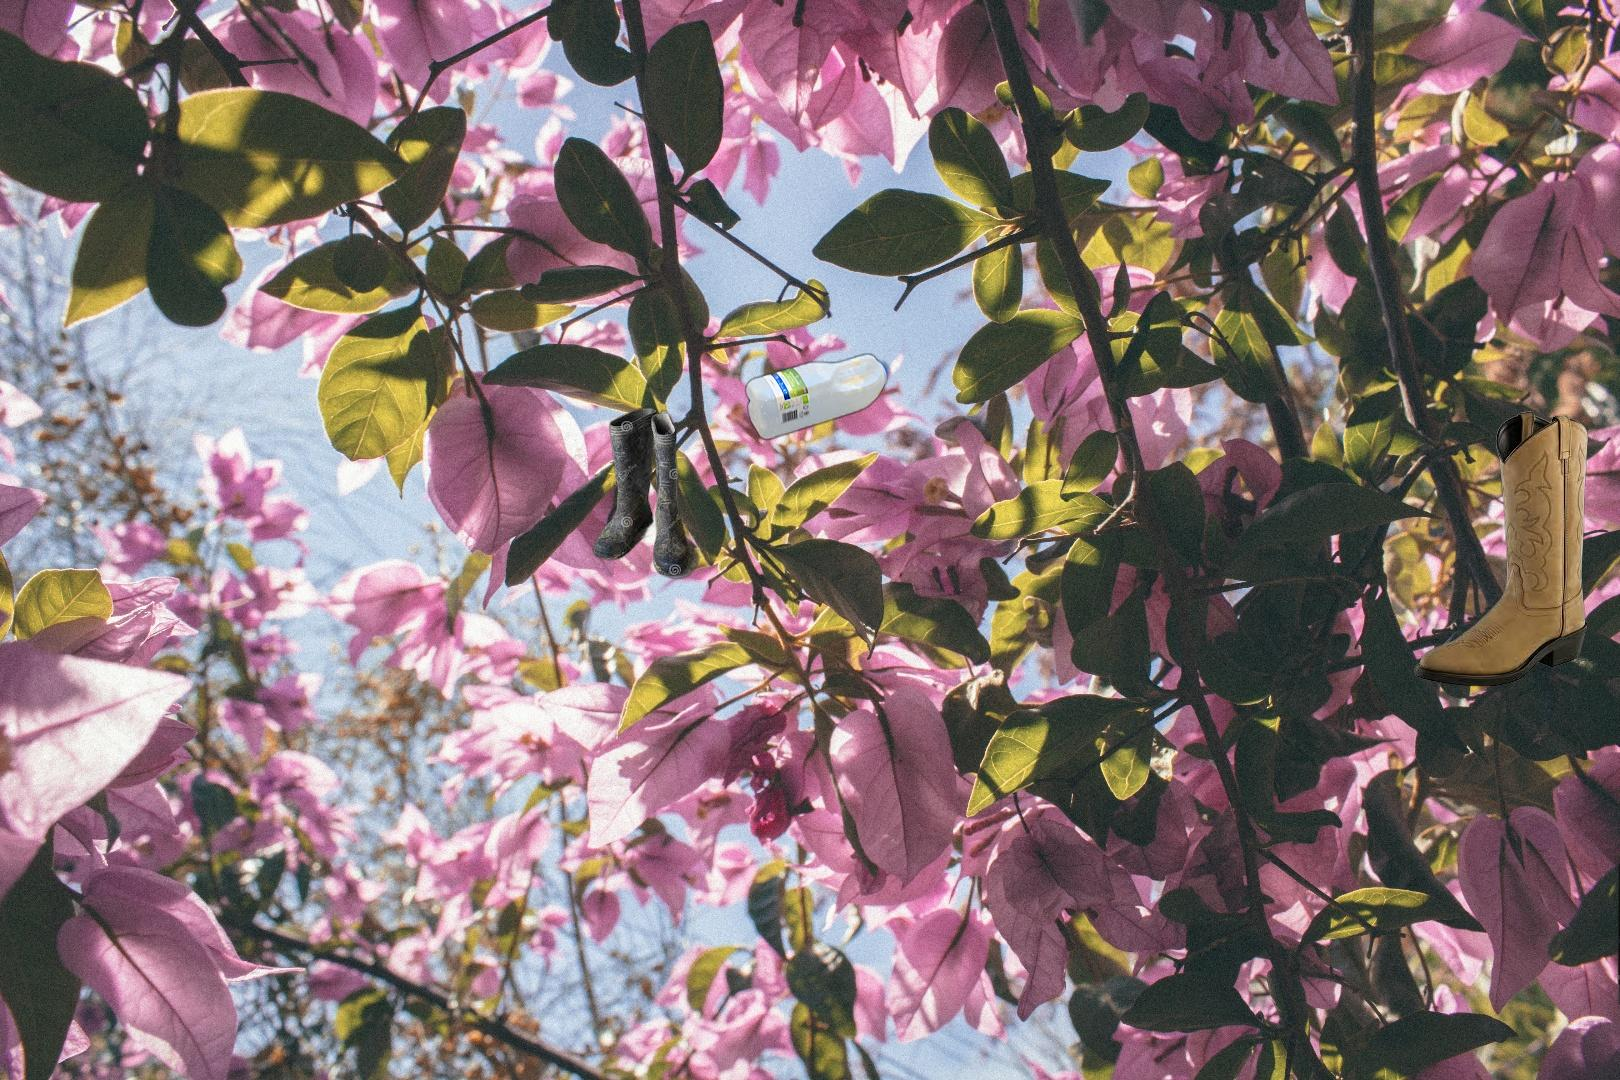battery: (1614, 803, 1620, 1028)
plastic-bottles: (741, 347, 896, 446)
shoes: (1411, 409, 1591, 689), (589, 399, 702, 582)
